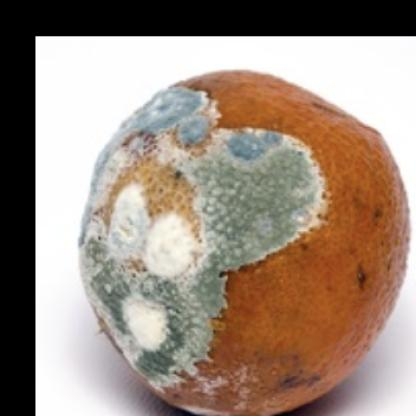rotten: (82, 71, 411, 416)
